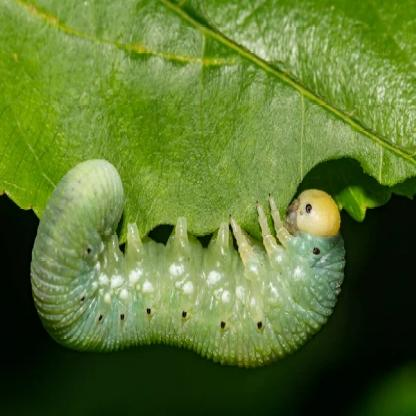sawfly: (28, 158, 352, 369)
